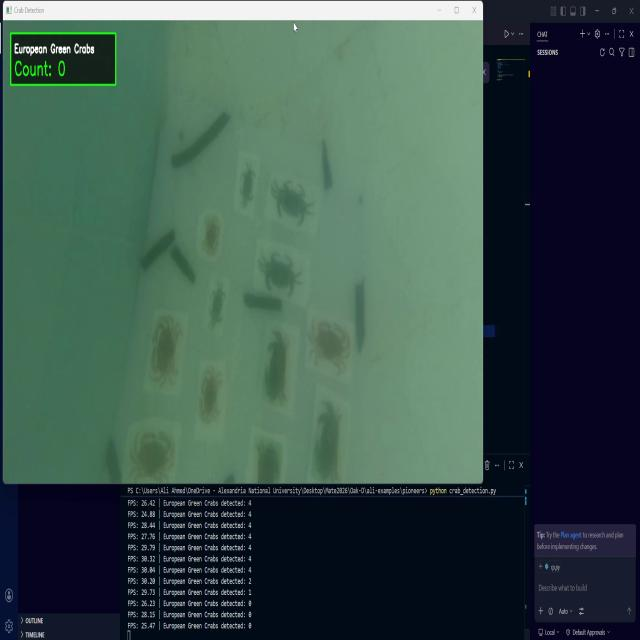European_Green_Crab: (270, 176, 315, 231), (256, 250, 301, 301), (204, 279, 227, 333), (238, 155, 257, 210)
